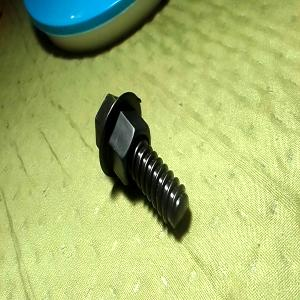parafuso: (94, 91, 189, 229)
